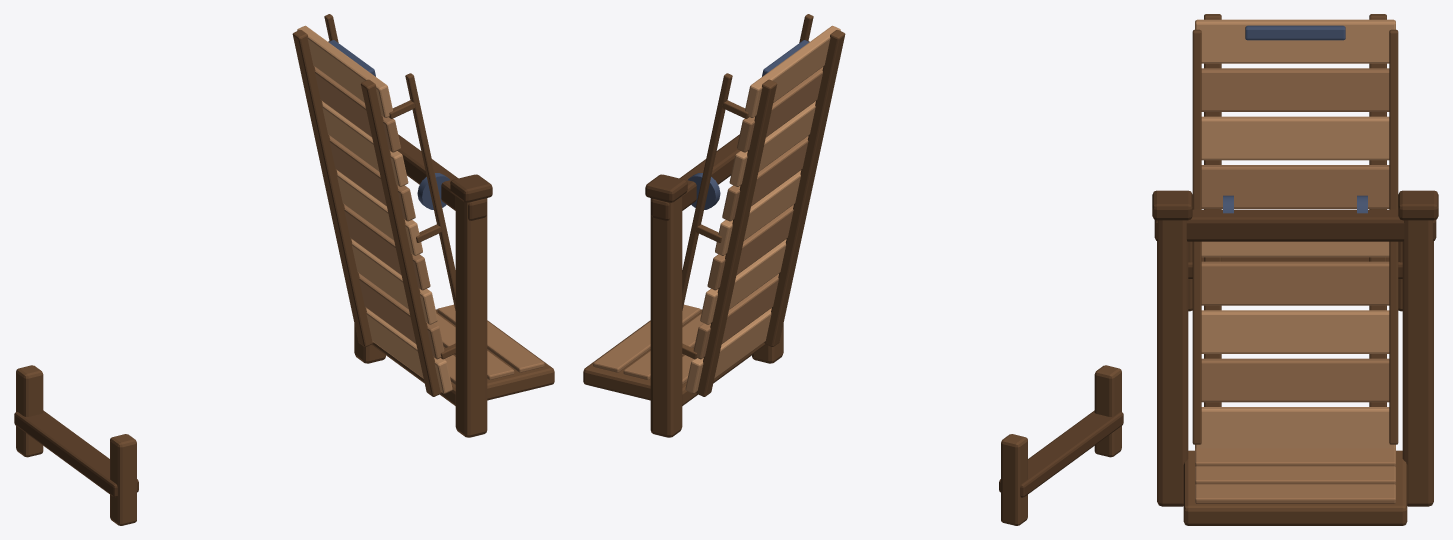
The model's file is ponte-levadica.glb.
3 renders of one model, left to right at view 1: azimuth 30°, elevation 25°; view 2: azimuth 150°, elevation 25°; view 3: azimuth 270°, elevation 25°, orthographic. The views are drawn at different scales.
Parts seen in each view (by area): view 1: box.012, margem, pouso; view 2: box.012, margem, pouso; view 3: box.012, margem, pouso.
Boxes of the visible parts, <box> form: box.012: <box>292,14,455,396</box>; margem: <box>354,134,554,437</box>; pouso: <box>14,365,138,525</box>; box.012: <box>682,14,845,396</box>; margem: <box>583,134,783,437</box>; pouso: <box>999,365,1123,525</box>; box.012: <box>1192,14,1398,448</box>; margem: <box>1152,190,1438,525</box>; pouso: <box>1188,241,1402,311</box>.
Bounding box in the file's own units: 2.8 × 2.22 × 1.28.
